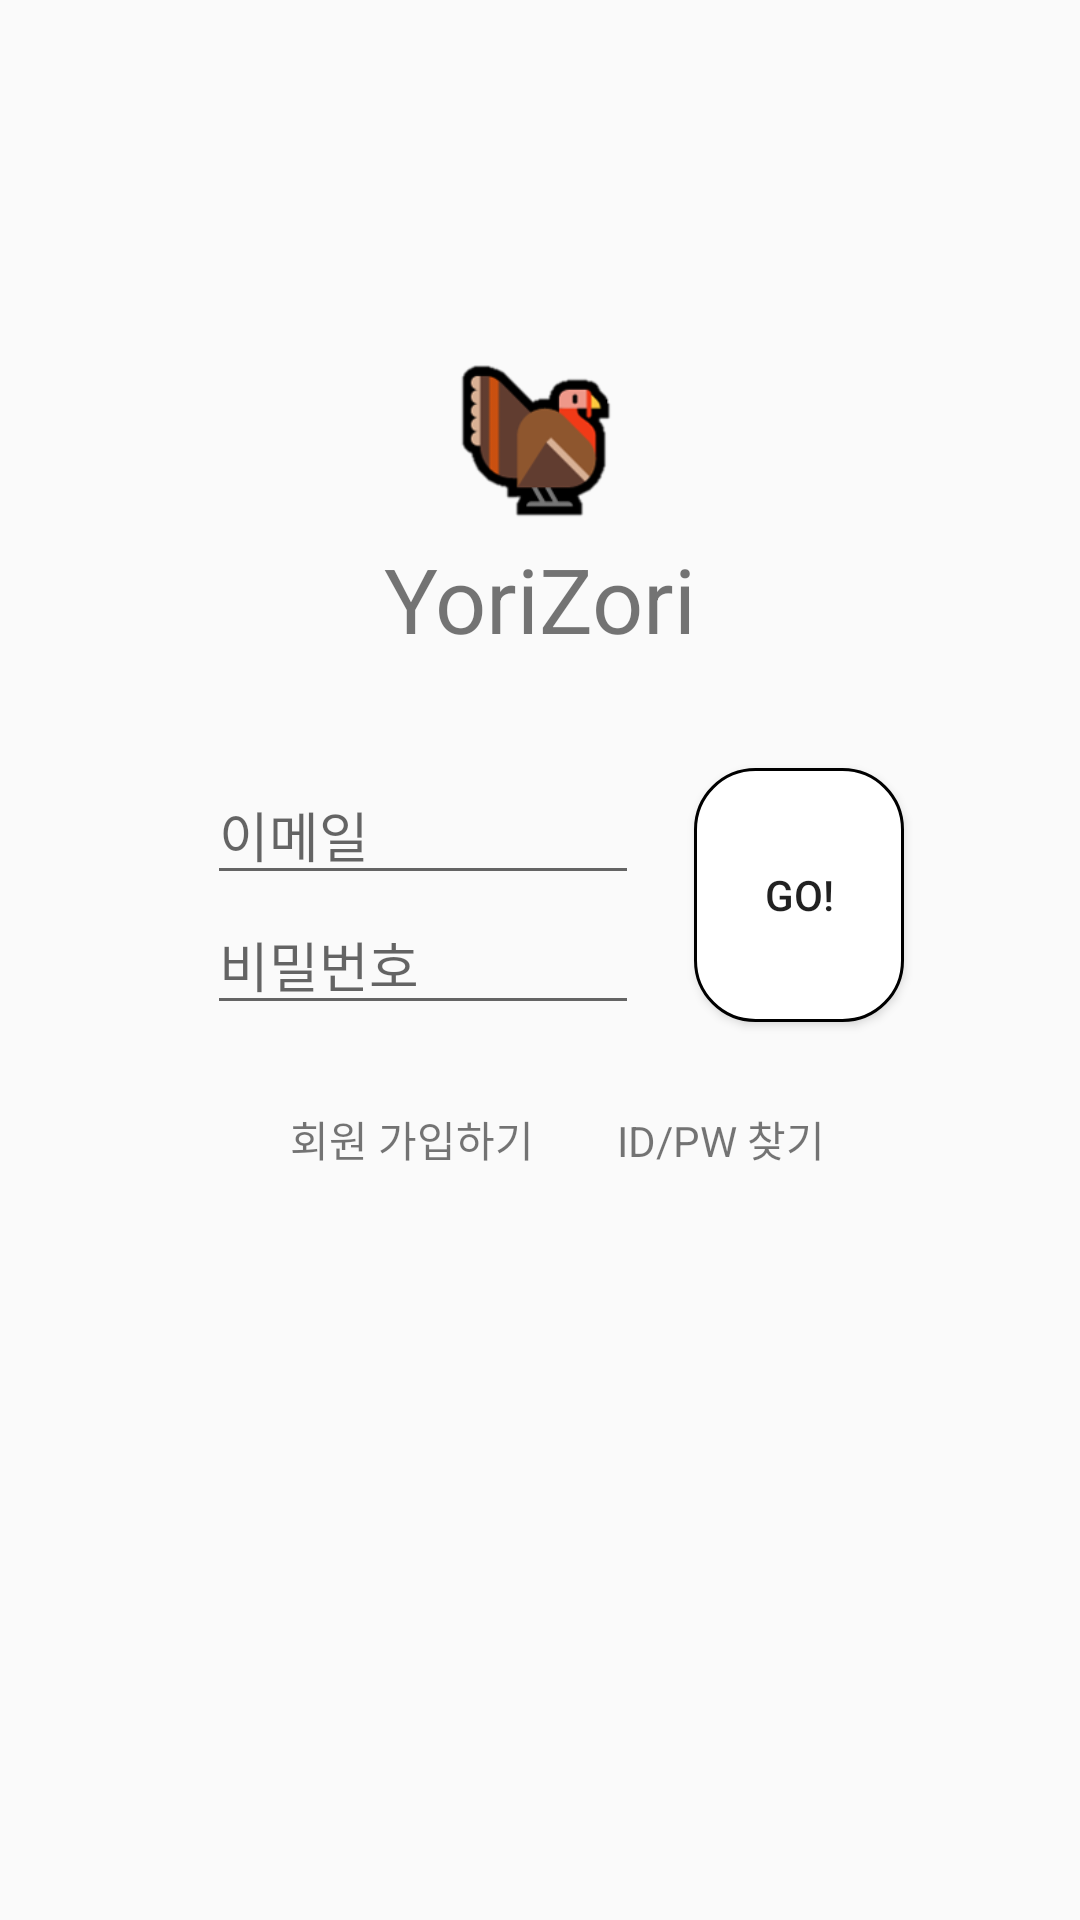

Screen size 1080×1920. Icon name, then its center in pixels as [x,y]:
turkey: [535,440]
